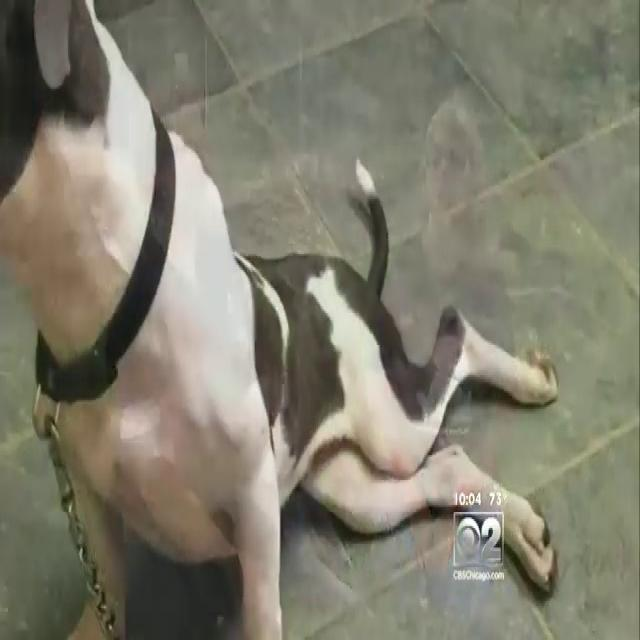normal_animals: (4, 3, 563, 633)
